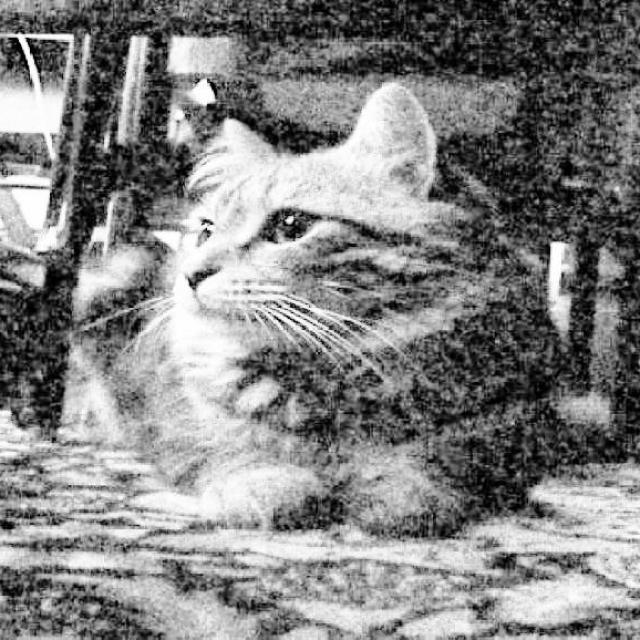Cat: (138, 77, 572, 550)
